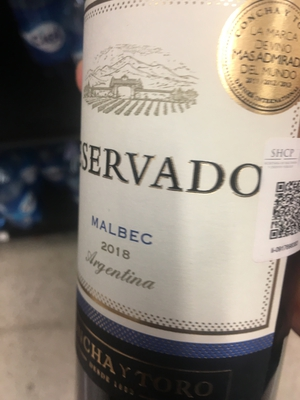reservado malbec: (69, 1, 294, 397)
